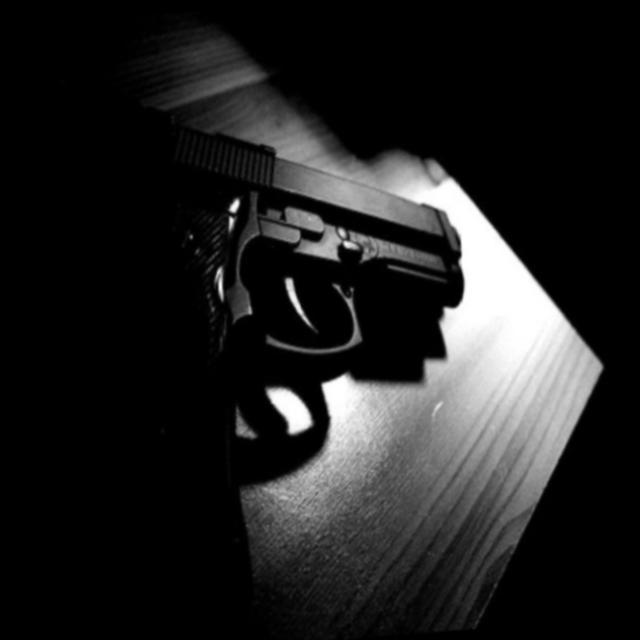weapon: (125, 93, 488, 394)
